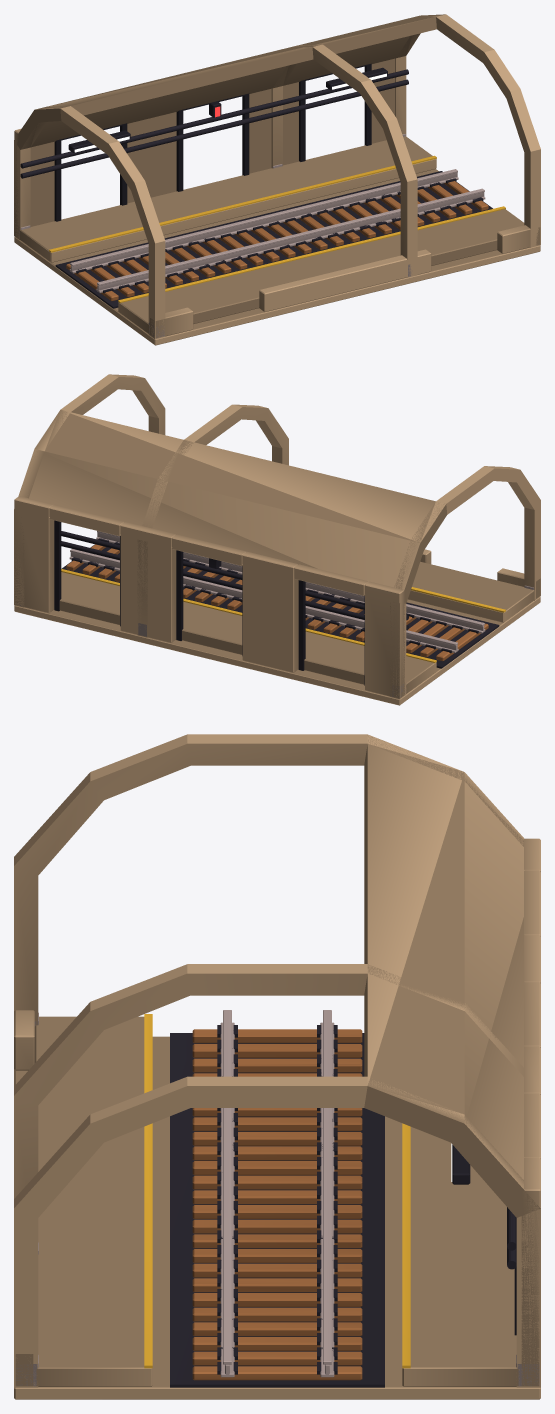
3 renders of one model, top to bottom at view 1: azimuth 30°, elevation 25°; view 2: azimuth 150°, elevation 25°; view 3: azimuth 270°, elevation 25°, orthographic. The views are drawn at different scales.
Parts seen in each view (by area): view 1: body_pal_khakiLight, roof_pal_khakiLight, body_pal_uiDark, body_pal_sidewalk, body_pal_woodWarm, body_pal_schoolBusYellow; view 2: roof_pal_khakiLight, body_pal_khakiLight, body_pal_uiDark, body_pal_sidewalk, body_pal_woodWarm, body_pal_schoolBusYellow; view 3: roof_pal_khakiLight, body_pal_khakiLight, body_pal_woodWarm, body_pal_uiDark, body_pal_sidewalk, body_pal_schoolBusYellow.
Part boxes in pixels (x1,y1,x2,y2): body_pal_khakiLight: (14,58,540,345); roof_pal_khakiLight: (14,14,540,339); body_pal_uiDark: (20,63,492,308); body_pal_sidewalk: (18,134,539,338); body_pal_woodWarm: (66,181,488,301); body_pal_schoolBusYellow: (49,155,505,303); roof_pal_khakiLight: (14,374,540,699); body_pal_khakiLight: (14,496,540,705); body_pal_uiDark: (54,520,499,685); body_pal_sidewalk: (20,531,533,697); body_pal_woodWarm: (66,544,488,661); body_pal_schoolBusYellow: (61,569,505,663); roof_pal_khakiLight: (14,734,540,1387); body_pal_khakiLight: (14,838,540,1399); body_pal_woodWarm: (192,1029,362,1380); body_pal_uiDark: (170,1025,516,1387); body_pal_sidewalk: (15,1010,539,1386); body_pal_schoolBusYellow: (144,1014,410,1368).
Size of the model in its own units: 12 by 5 by 7.6.
